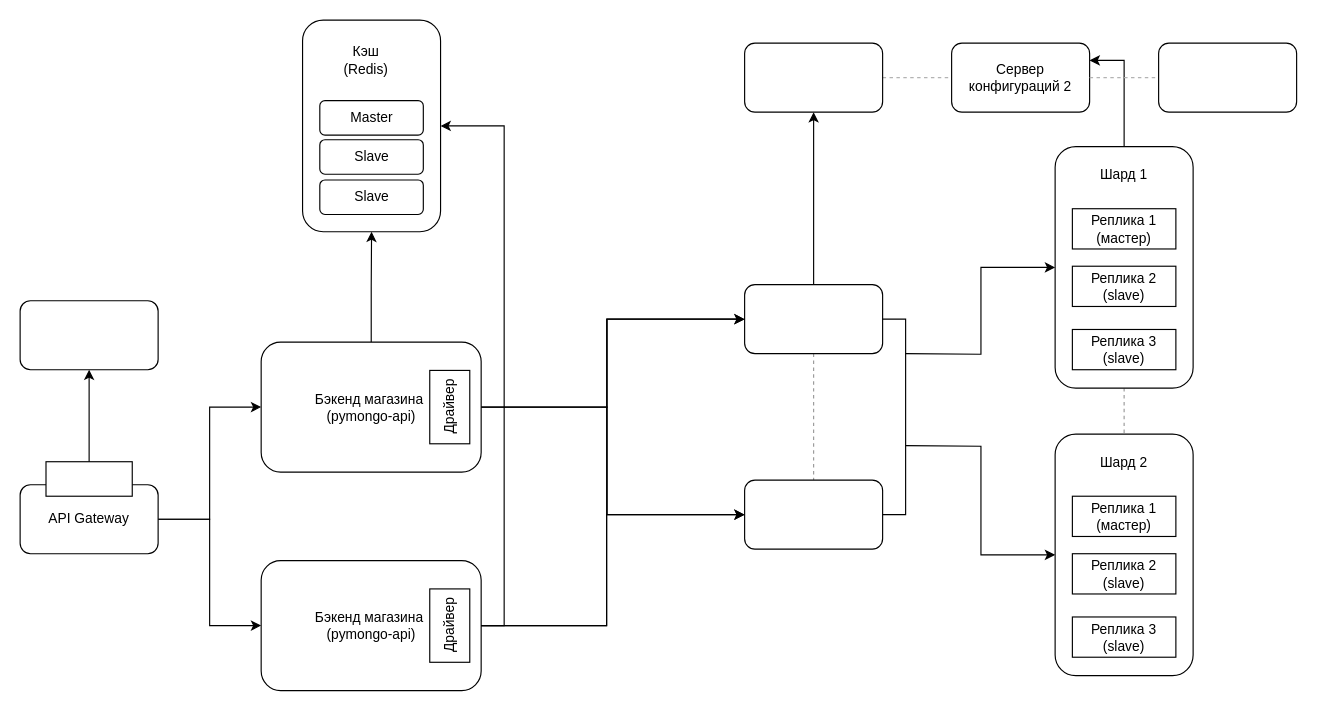
Image size: 1317x711. Some labels were removed from this diagram. Here are the shapes that lost their labels. From the top down, the box of each, then its label:
(743, 42, 883, 112): Сервер конфигураций 1
(1157, 42, 1297, 112): Сервер конфигураций 3
(19, 300, 158, 370): Consul
(743, 283, 883, 354): Роутер 1
(45, 461, 132, 496): consul_kv
(743, 479, 883, 549): Роутер 2
